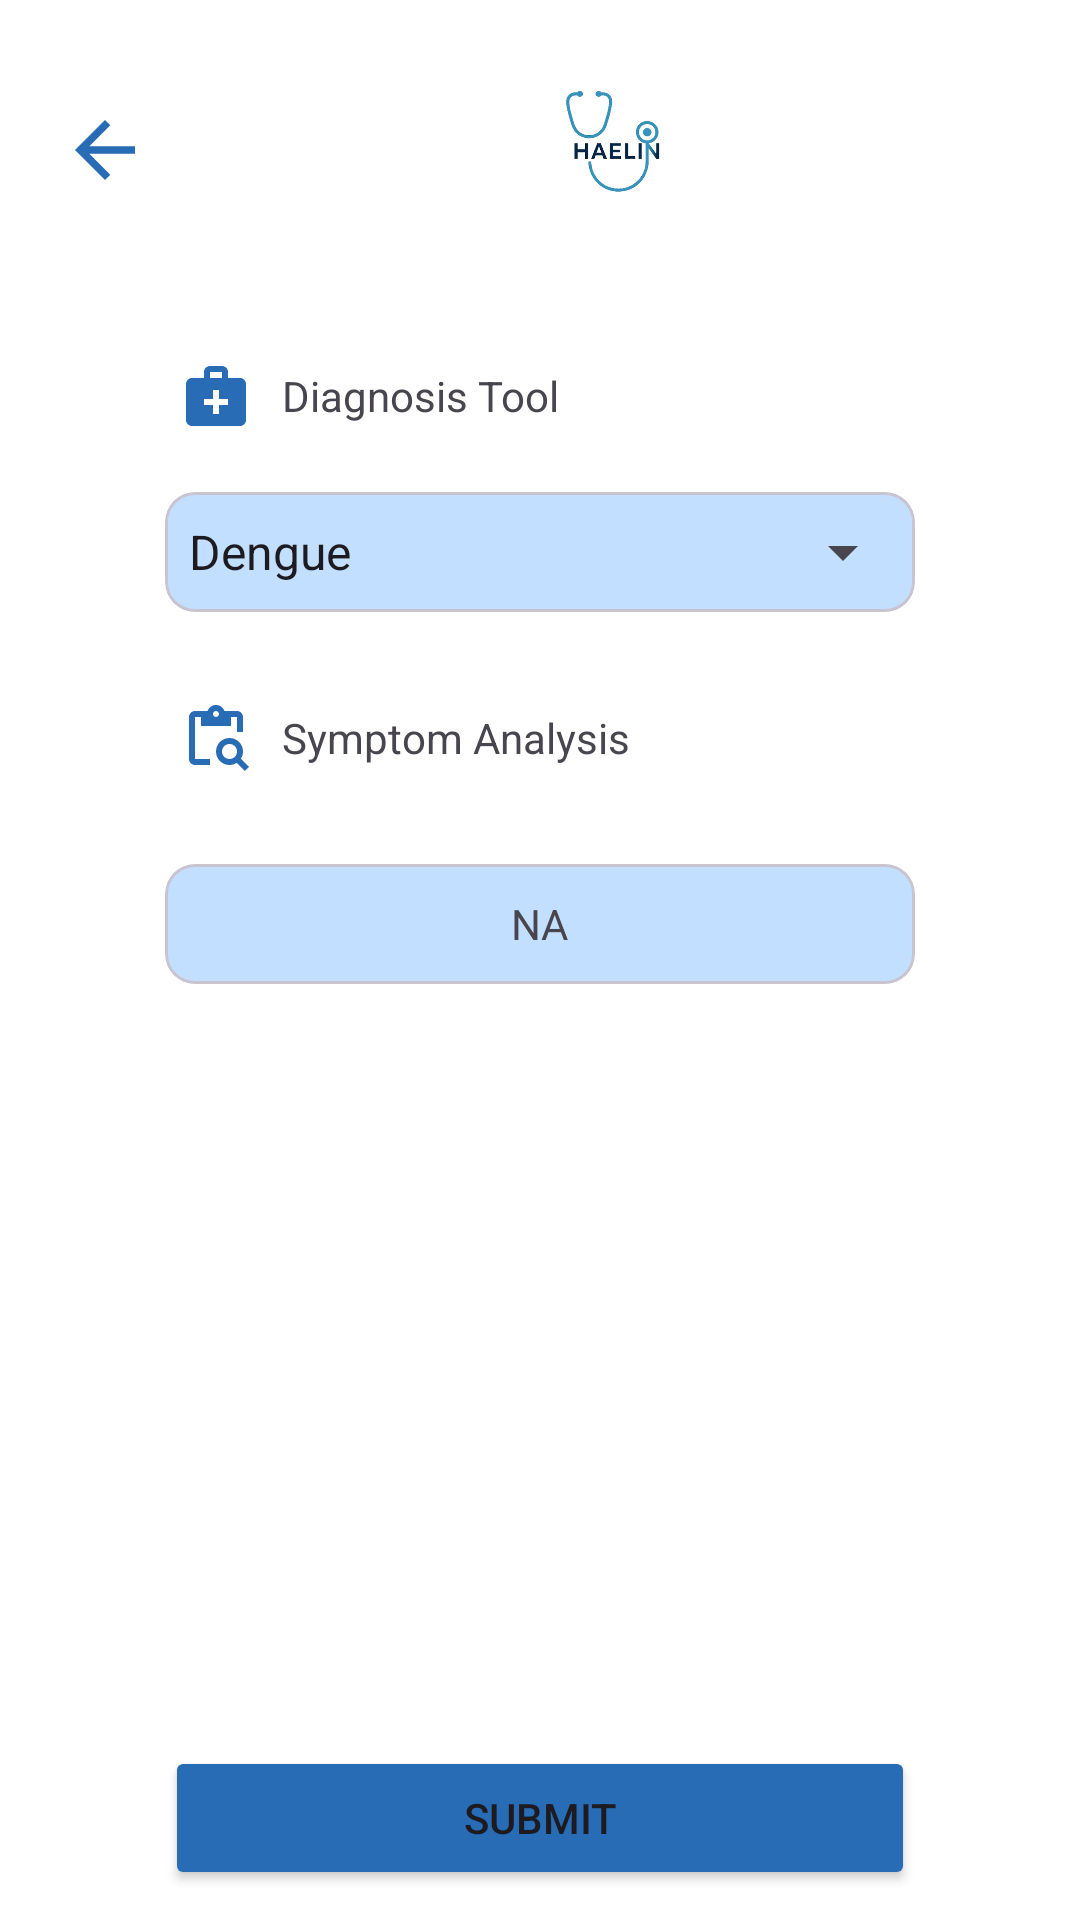

Named icons in this screenshot (1080 x 1920) and their centers, (x=x, y=y):
back: (x=105, y=150)
medical: (x=216, y=396)
